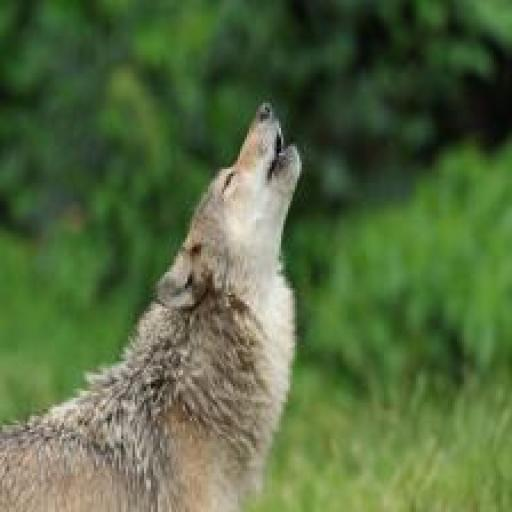wolf: (0, 84, 329, 512)
